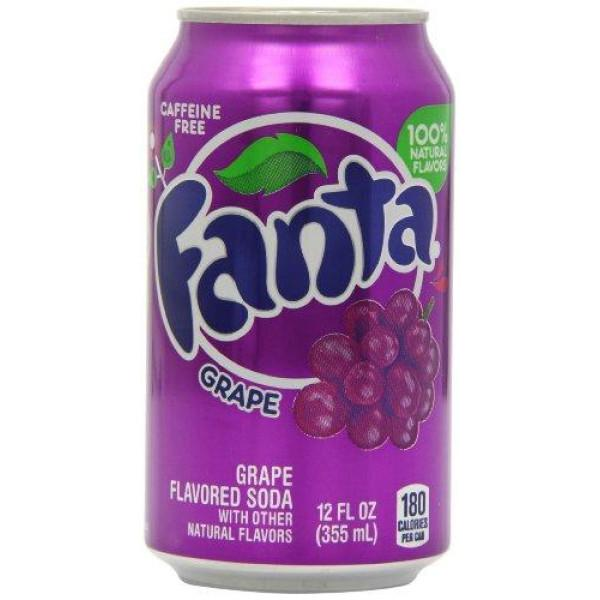can: (138, 1, 460, 591)
